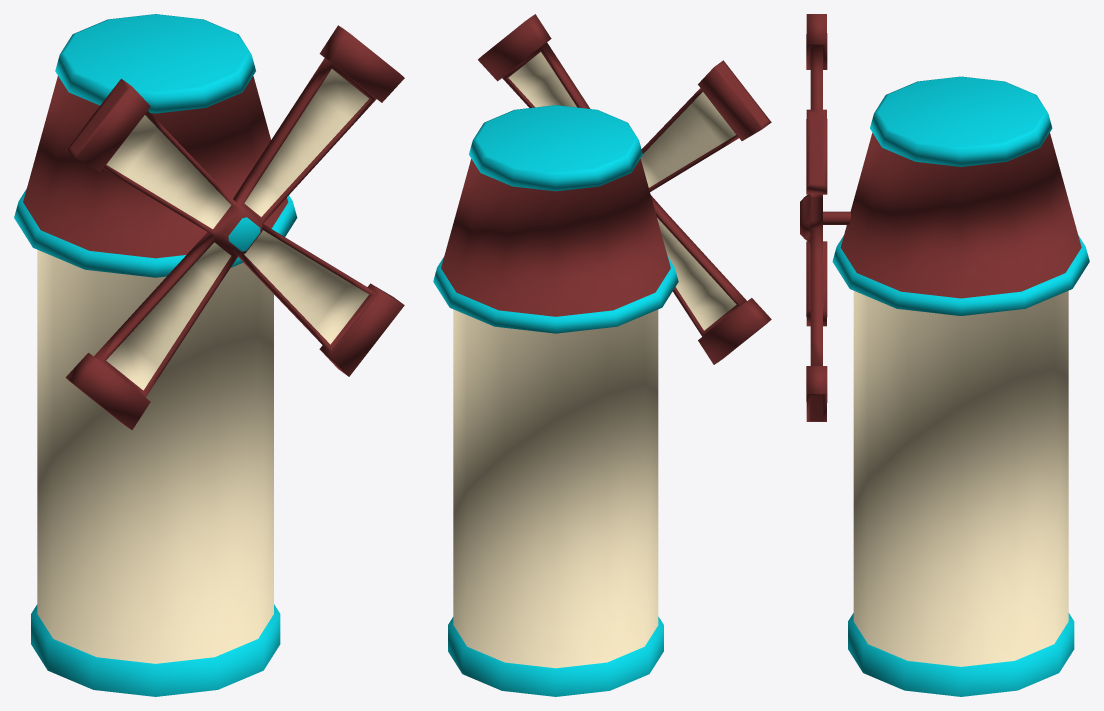
The model's file is Windmill.FBX.
3 views of the same model, side by side, from view 1: azimuth 30°, elevation 25°; view 2: azimuth 150°, elevation 25°; view 3: azimuth 270°, elevation 25° (orthographic). The views are drawn at different scales.
Visible parts, largest first — view 1: Cone002, Windmill; view 2: Cone002, Windmill; view 3: Cone002, Windmill.
Boxes of the visible parts, x1,y1,x2,y2 form: Cone002: (14,14,297,696); Windmill: (65,25,404,429); Cone002: (433,105,678,696); Windmill: (478,14,771,364); Cone002: (823,76,1089,696); Windmill: (800,14,827,421).
Bounding box in the file's own units: 150 × 282 × 126.
Materials: 3 (3 with a texture image).
